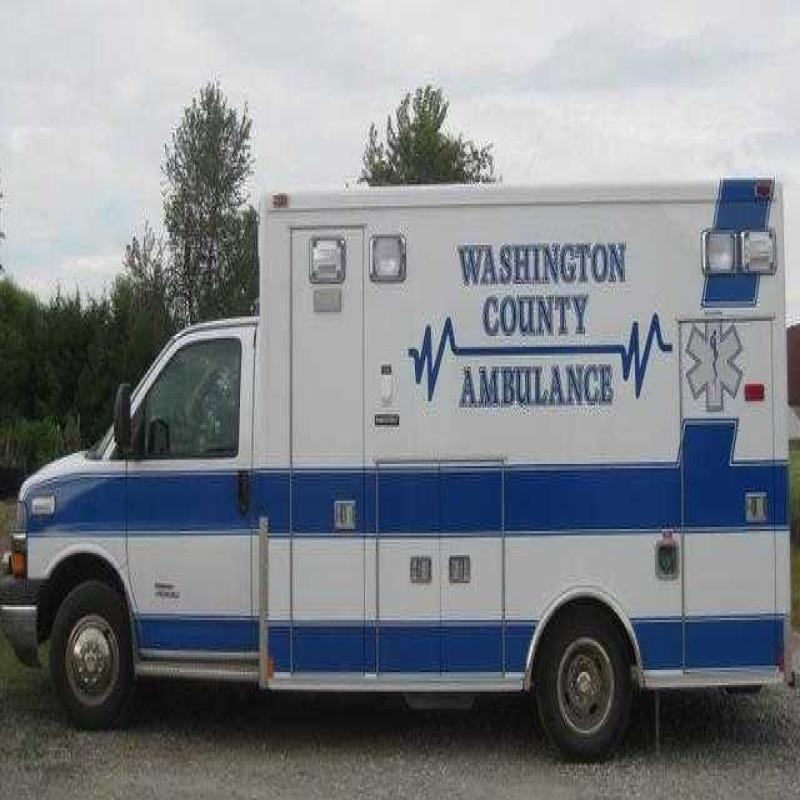AmbulanceSiren: (304, 210, 416, 314), (702, 208, 772, 289)
